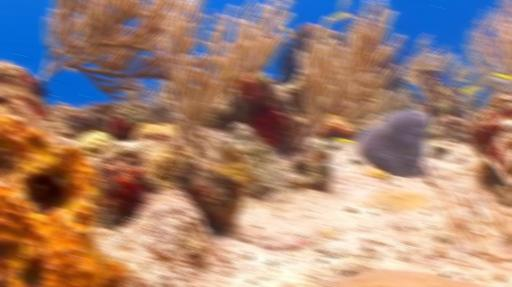Fish: (329, 11, 352, 22), (489, 72, 511, 83), (462, 85, 481, 95), (332, 12, 350, 22), (338, 0, 351, 11), (333, 137, 356, 143), (281, 27, 292, 35)
